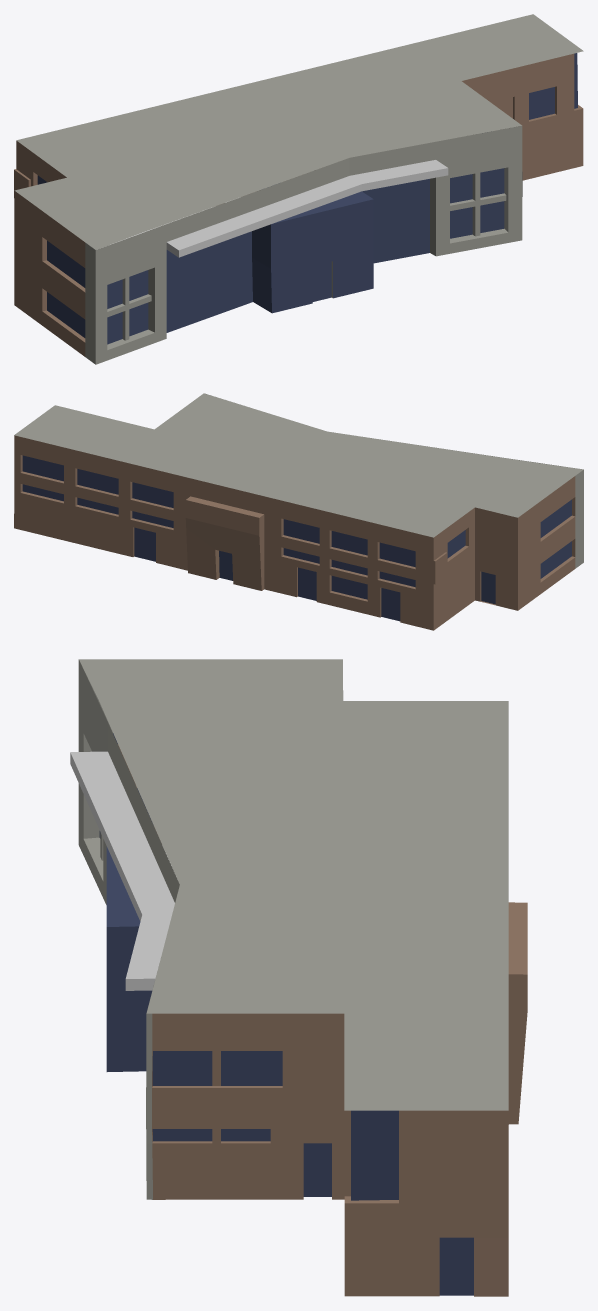
File: Engineering_Building_Textured.fbx
3 renders of one model, top to bottom at view 1: azimuth 30°, elevation 25°; view 2: azimuth 150°, elevation 25°; view 3: azimuth 270°, elevation 25°, orthographic. The views are drawn at different scales.
Visible parts, largest first — view 1: Front, Roof; view 2: Front, Roof; view 3: Roof, Front.
Boxes of the visible parts, <box> form: Front: <box>14,53,583,364</box>; Roof: <box>14,14,583,249</box>; Front: <box>14,435,583,630</box>; Roof: <box>14,393,583,537</box>; Roof: <box>79,659,508,1110</box>; Front: <box>70,659,527,1296</box>.
Size of the model in its own units: 650 by 125 by 278.
